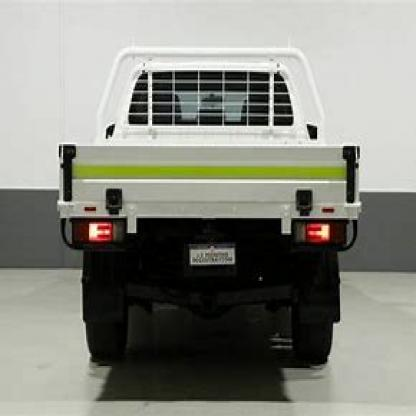light_vehicle: (50, 28, 373, 384)
